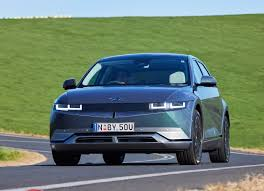Honda Ioniq: (46, 49, 235, 174)
